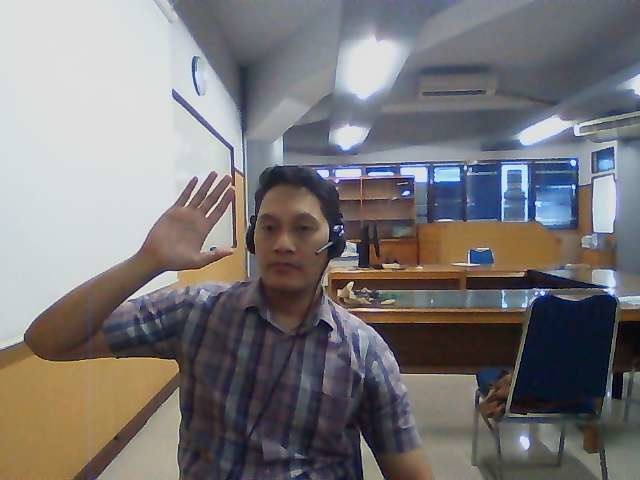Hai: (144, 170, 237, 274)
